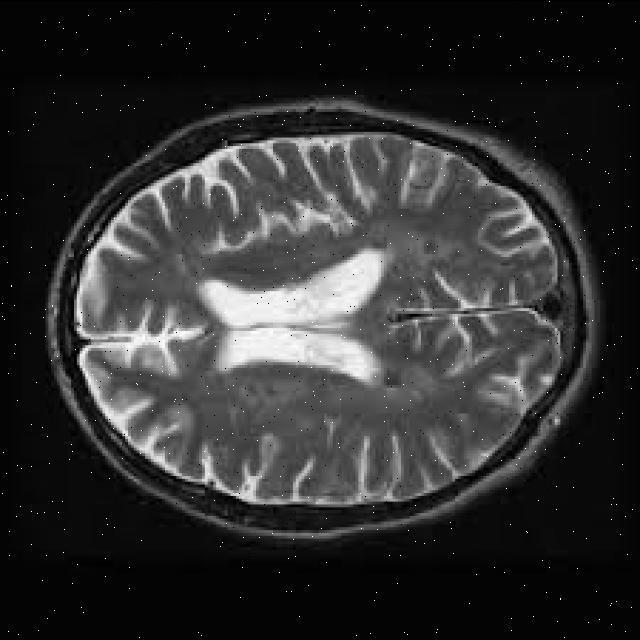No_Tumor: (47, 98, 599, 539)
